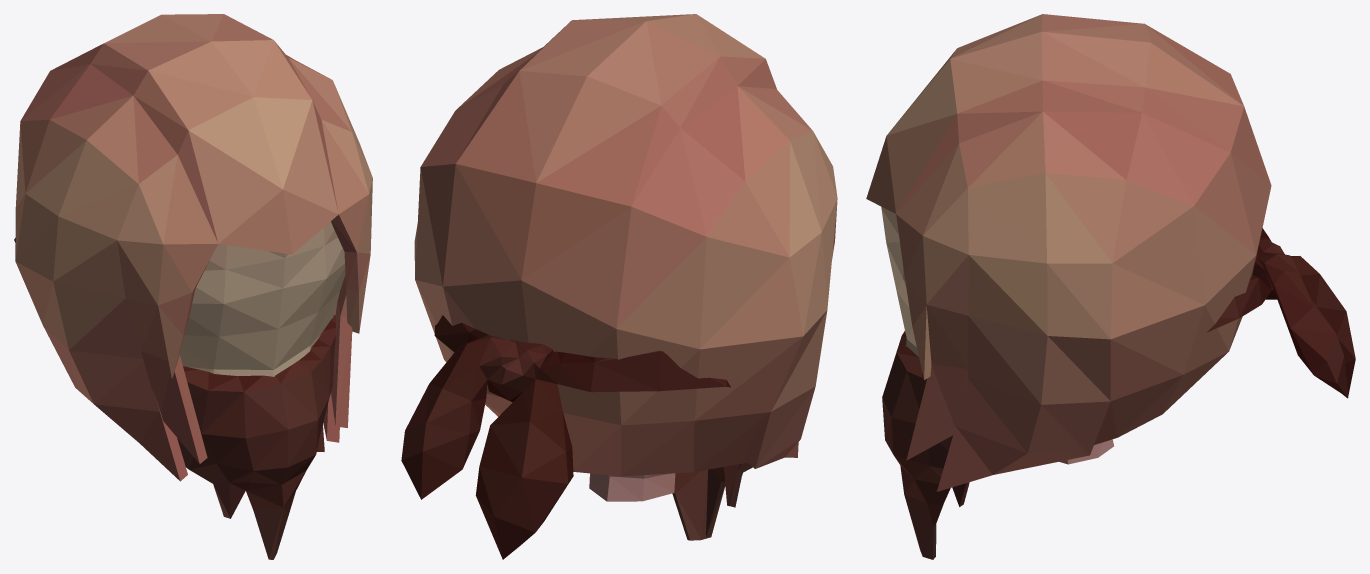
The model's file is helm_lightskin_bob_blonde_bandana.fbx.
The picture shows the model from 3 angles, left to right: view 1: azimuth 30°, elevation 25°; view 2: azimuth 150°, elevation 25°; view 3: azimuth 270°, elevation 25°; orthographic projection. The views are drawn at different scales.
Visible parts, largest first — view 1: helm_lightskin_bob_blonde_bandana; view 2: helm_lightskin_bob_blonde_bandana; view 3: helm_lightskin_bob_blonde_bandana.
Part boxes in pixels (bbox=[...]): helm_lightskin_bob_blonde_bandana: bbox=[14, 14, 372, 559]; helm_lightskin_bob_blonde_bandana: bbox=[401, 14, 837, 559]; helm_lightskin_bob_blonde_bandana: bbox=[866, 14, 1355, 559].
Size of the model in its own units: 1.18 by 1.65 by 1.4.
